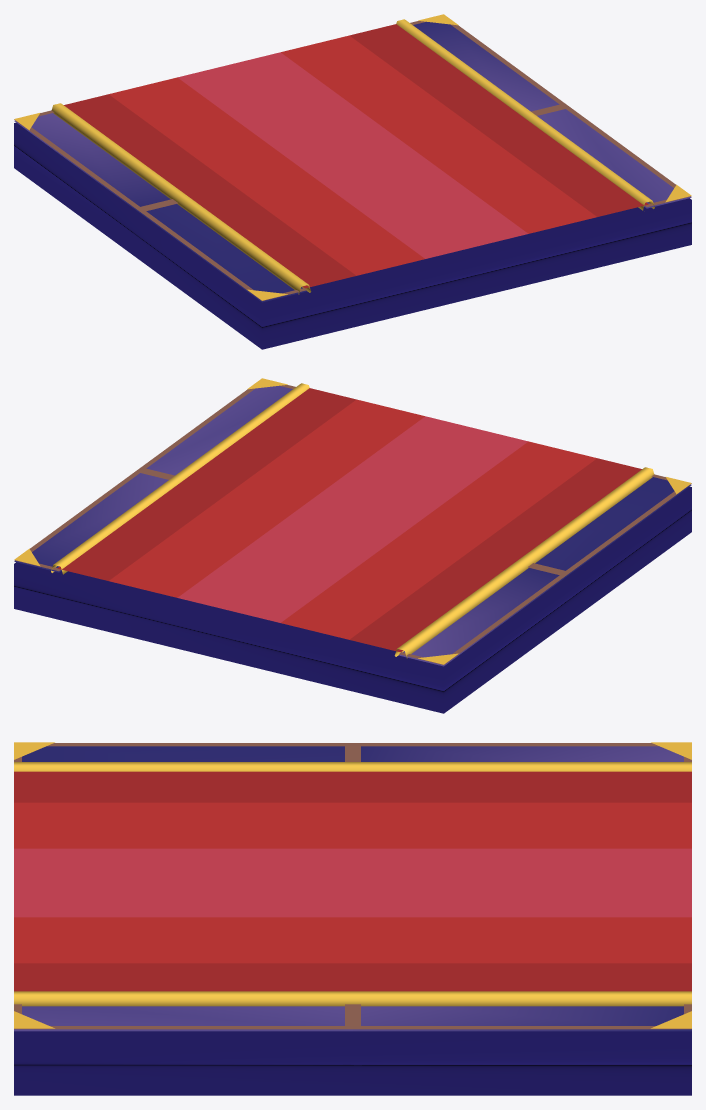
Rendered from tile_red_carpet.glb.
3 views of the same model, one above another, from view 1: azimuth 30°, elevation 25°; view 2: azimuth 150°, elevation 25°; view 3: azimuth 270°, elevation 25° (orthographic). The views are drawn at different scales.
Parts seen in each view (by area): view 1: Tile.001; view 2: Tile.001; view 3: Tile.001.
Boxes of the visible parts, x1,y1,x2,y2 form: Tile.001: (14,14,691,349); Tile.001: (14,378,691,713); Tile.001: (14,742,691,1095).
Bounding box in the file's own units: 1 × 0.1191 × 1.
